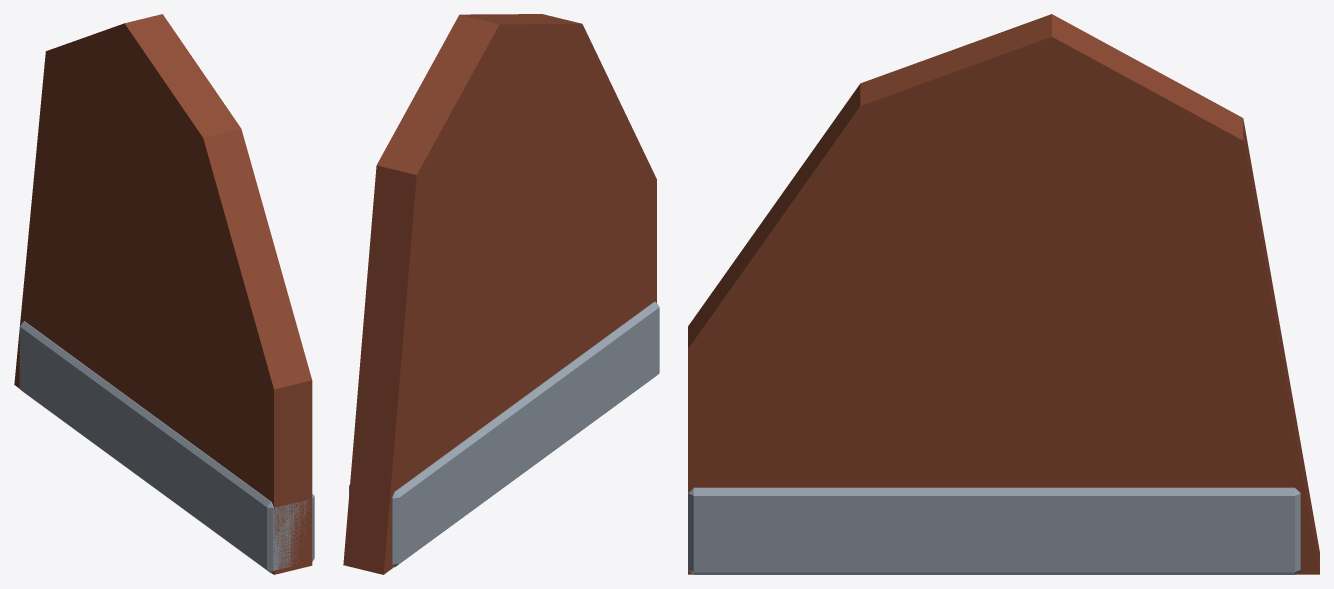
File: MenuWreckFin.fbx
The picture shows the model from 3 angles, left to right: view 1: azimuth 30°, elevation 25°; view 2: azimuth 150°, elevation 25°; view 3: azimuth 270°, elevation 25°; orthographic projection. The views are drawn at different scales.
Parts seen in each view (by area): view 1: MenuWreckFin; view 2: MenuWreckFin; view 3: MenuWreckFin.
Boxes of the visible parts, <box> form: MenuWreckFin: <box>14,14,314,574</box>; MenuWreckFin: <box>343,14,659,574</box>; MenuWreckFin: <box>688,14,1319,574</box>.
Size of the model in its own units: 35 by 310 by 330.
